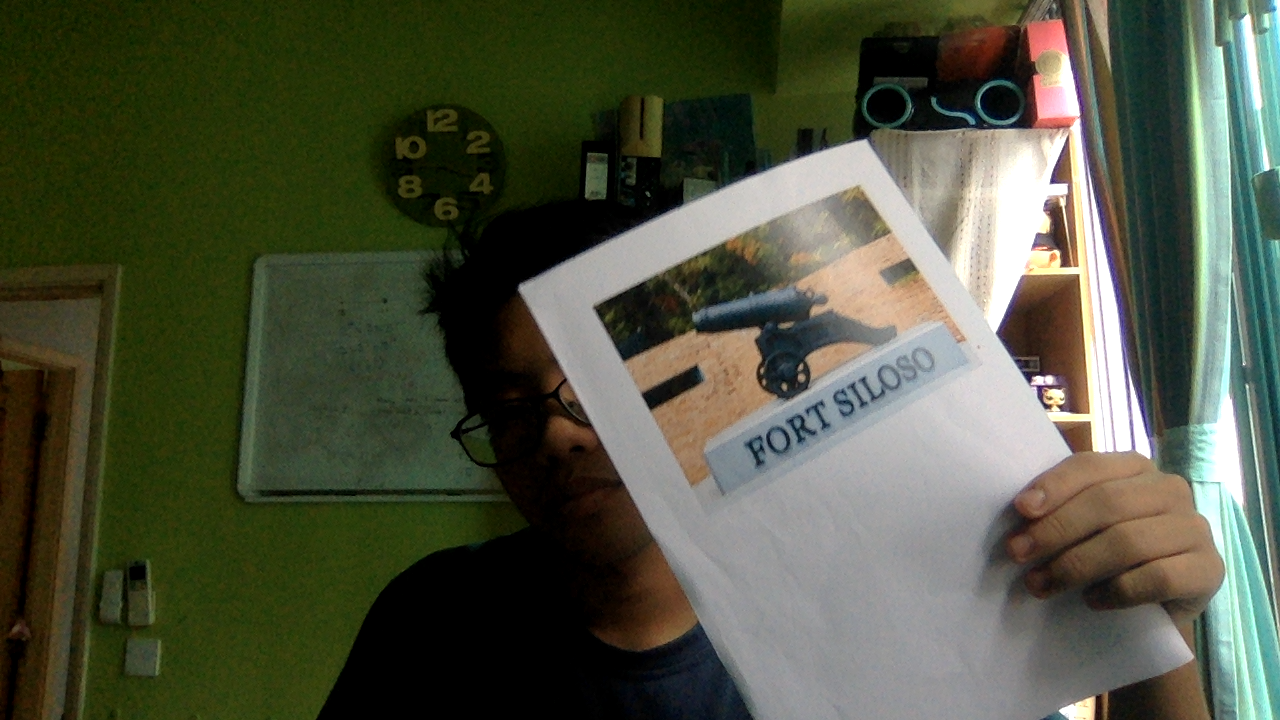siloso: (637, 227, 960, 485)
